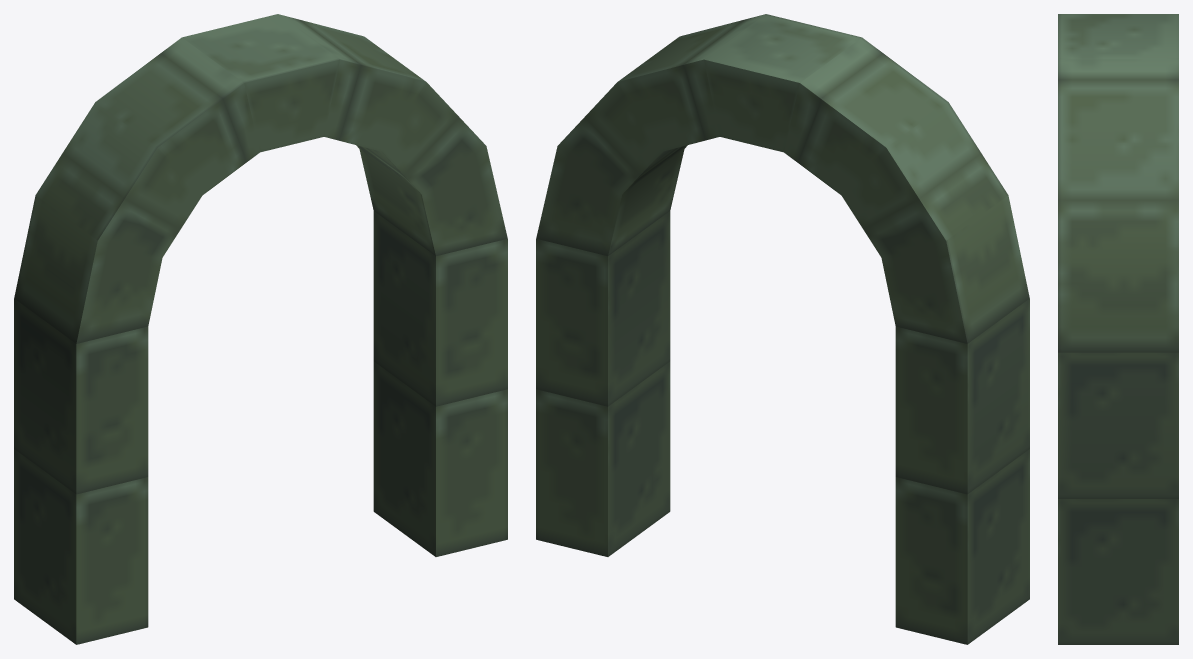
Rendered from arch_high_01_green.fbx.
3 views of the same model, side by side, from view 1: azimuth 30°, elevation 25°; view 2: azimuth 150°, elevation 25°; view 3: azimuth 270°, elevation 25° (orthographic). The views are drawn at different scales.
Parts seen in each view (by area): view 1: arch_high_01_green; view 2: arch_high_01_green; view 3: arch_high_01_green.
Part boxes in pixels (x1=…): arch_high_01_green: x1=14, y1=14, x2=507, y2=644; arch_high_01_green: x1=536, y1=14, x2=1029, y2=644; arch_high_01_green: x1=1058, y1=14, x2=1178, y2=644.
Size of the model in its own units: 48 by 55.4 by 12.
